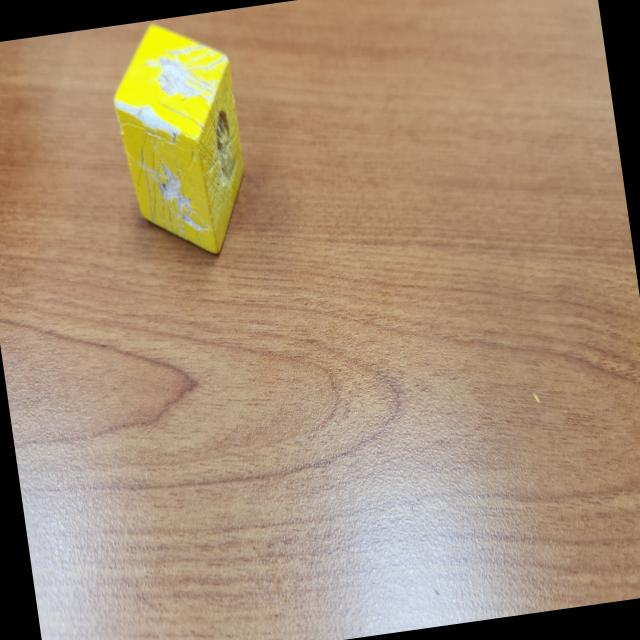broken: (104, 13, 255, 266)
